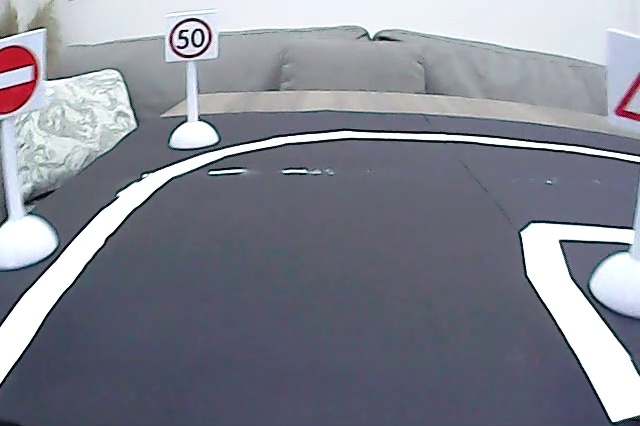do not enter: (1, 44, 45, 117)
speed limit 50: (168, 18, 214, 60)
